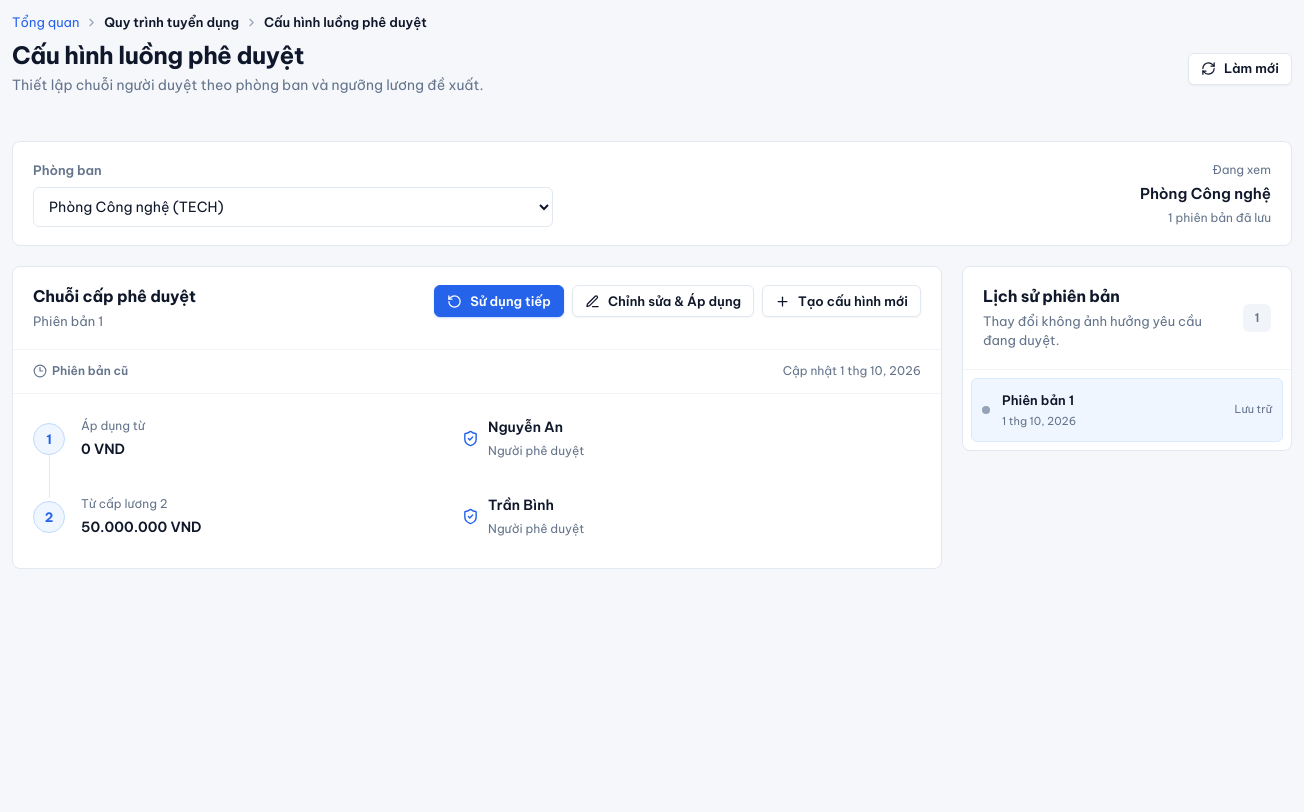
Test: ApprovalConfigurationPage (S3-01) › allows resuming a deactivated configuration with "Sử dụng tiếp"
The image size is (1304, 812).
What coordinates should you click on to do the following:
click the button "Sử dụng tiếp"
I would click on:
 (499, 301)
Its box is 434,285 -> 564,317.
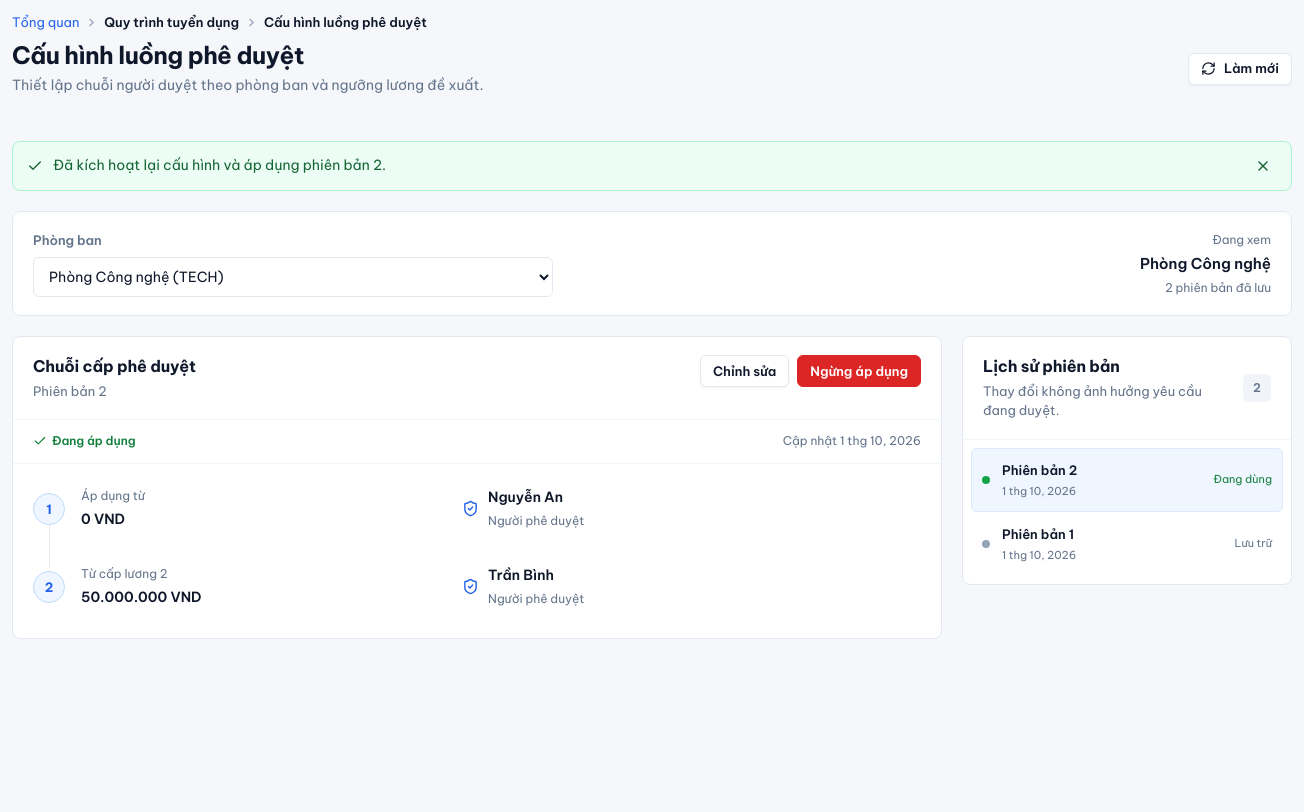
Check: the text "Đã kích hoạt lại cấu hình và áp dụng phiên bản 2." is shown, box 53,156 -> 386,174
